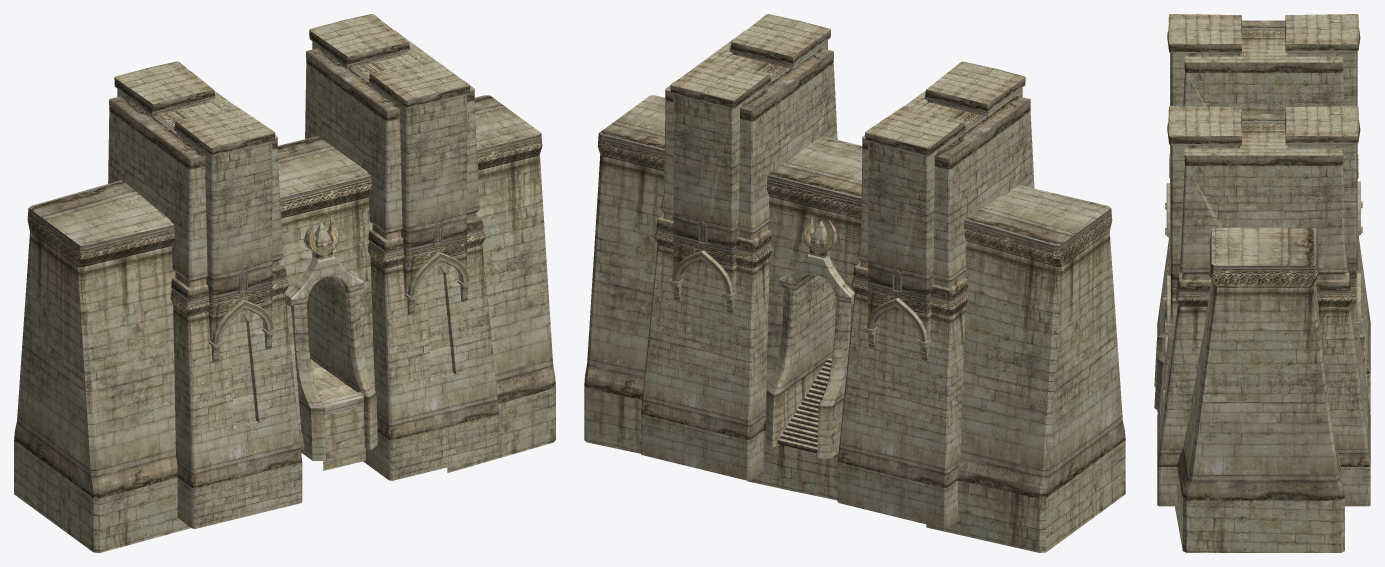
The model's file is TW2_5_TEMPLE_02_6-transformed.glb.
3 renders of one model, left to right at view 1: azimuth 30°, elevation 25°; view 2: azimuth 150°, elevation 25°; view 3: azimuth 270°, elevation 25°, orthographic. The views are drawn at different scales.
Visible parts, largest first — view 1: default; view 2: default; view 3: default.
Part boxes in pixels (<box>): default: <box>14,14,555,552</box>; default: <box>584,14,1125,552</box>; default: <box>1154,14,1370,552</box>.
Size of the model in its own units: 25.5 by 20.3 by 10.69.
5 materials, 5 textured.
